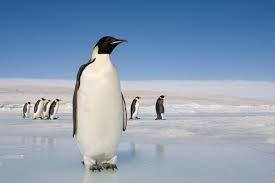emporer: (68, 28, 138, 179)
